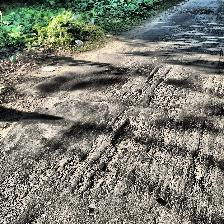pothole: (110, 118, 140, 150), (88, 166, 114, 188)
